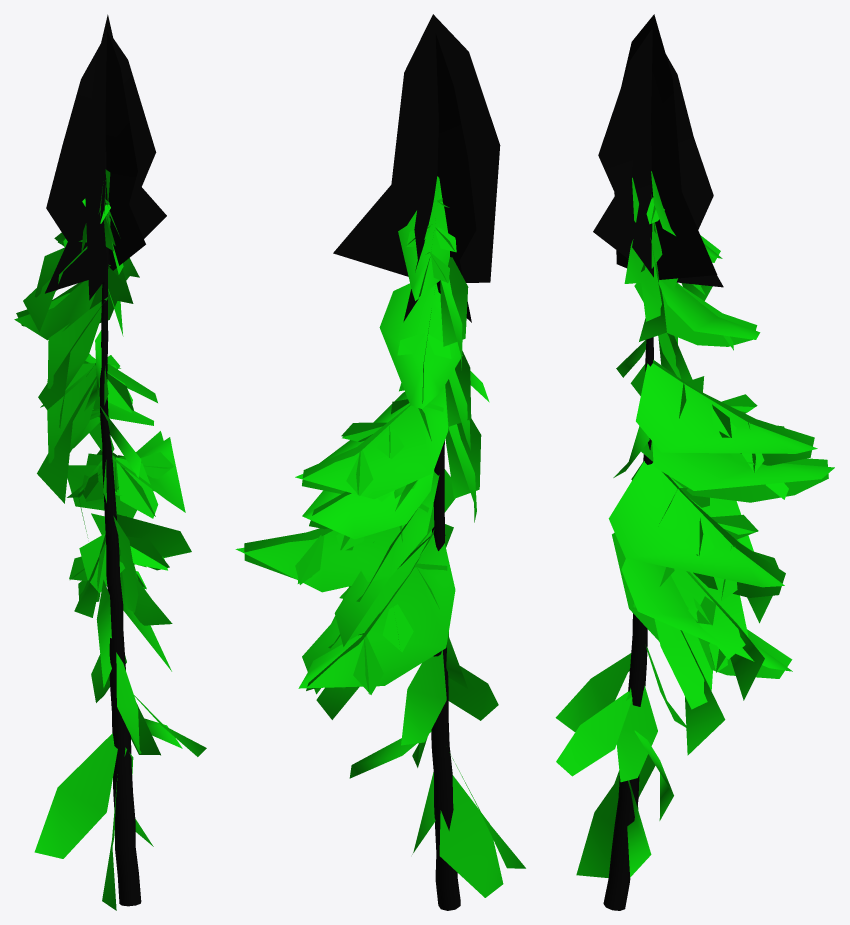
File: pine_004_clump02_A.FBX
3 views of the same model, side by side, from view 1: azimuth 30°, elevation 25°; view 2: azimuth 150°, elevation 25°; view 3: azimuth 270°, elevation 25° (orthographic). The views are drawn at different scales.
Visible parts, largest first — view 1: pine_004_clump02_A_LOD0; view 2: pine_004_clump02_A_LOD0; view 3: pine_004_clump02_A_LOD0.
Boxes of the visible parts, x1=… form: pine_004_clump02_A_LOD0: x1=14, y1=14, x2=206, y2=910; pine_004_clump02_A_LOD0: x1=235, y1=14, x2=525, y2=910; pine_004_clump02_A_LOD0: x1=555, y1=14, x2=834, y2=910.
Size of what is drawn, in the model's own units: 337 by 1356 by 386.
